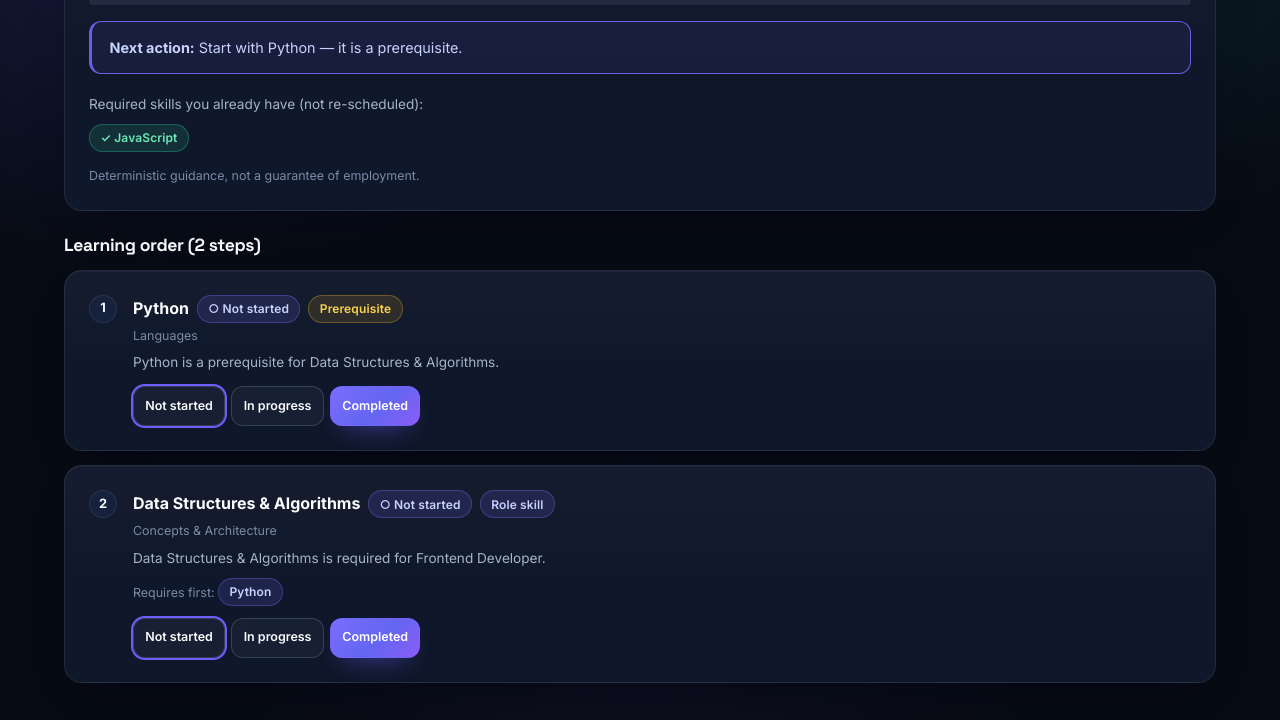
Scenario: RoadmapPage › persists a progress update through the API
(page scrolled)
Click the button "Completed" below "Languages" at (375,406), box [330,386,420,426]
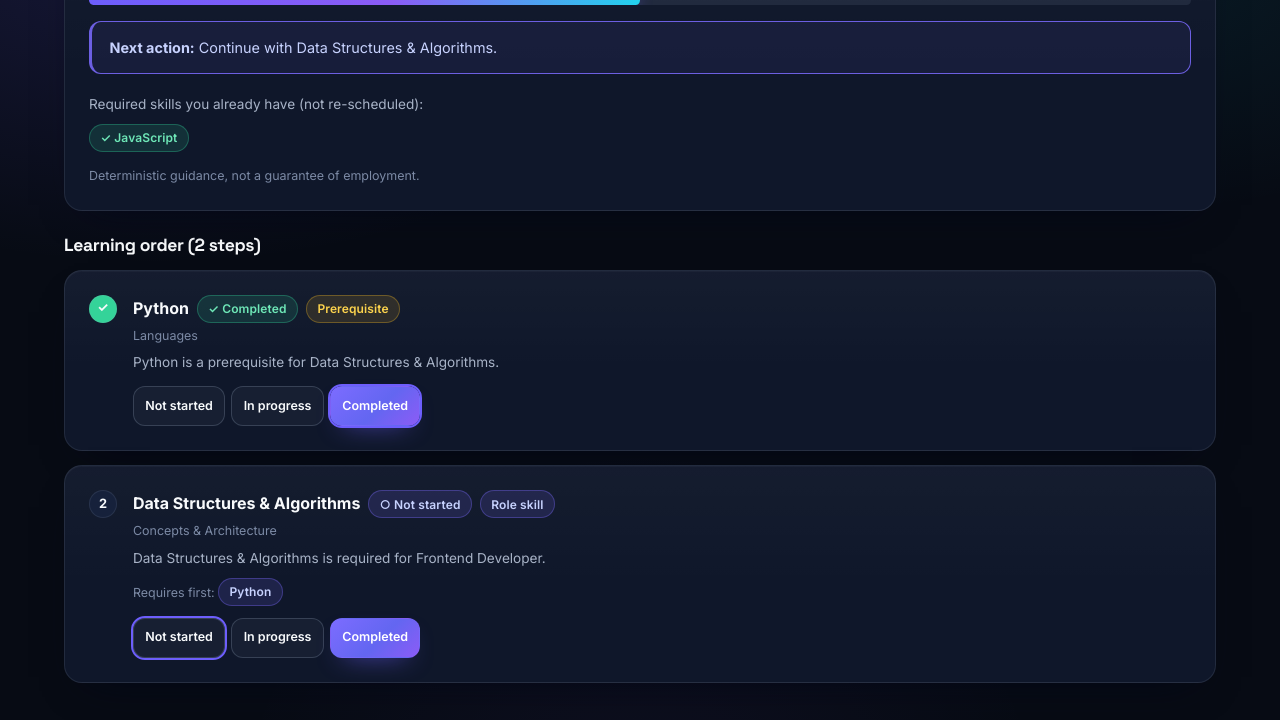
Check: the text "✓ Completed" is shown, box [197,295,298,323]
